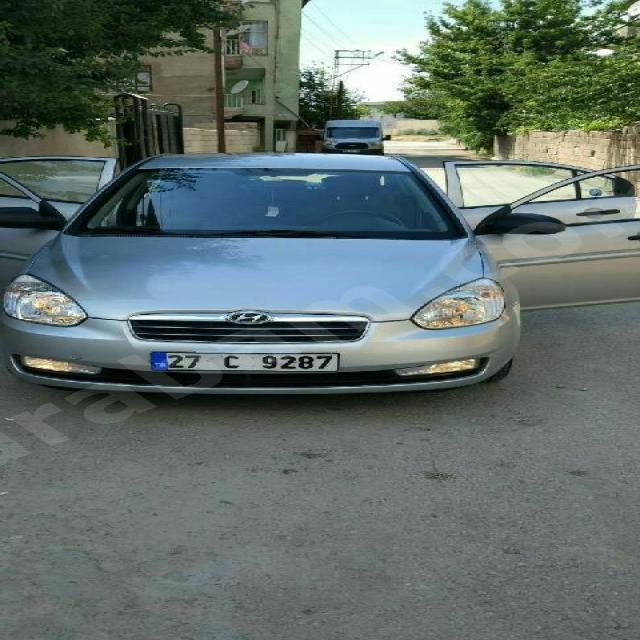license_plate: (149, 351, 339, 372)
